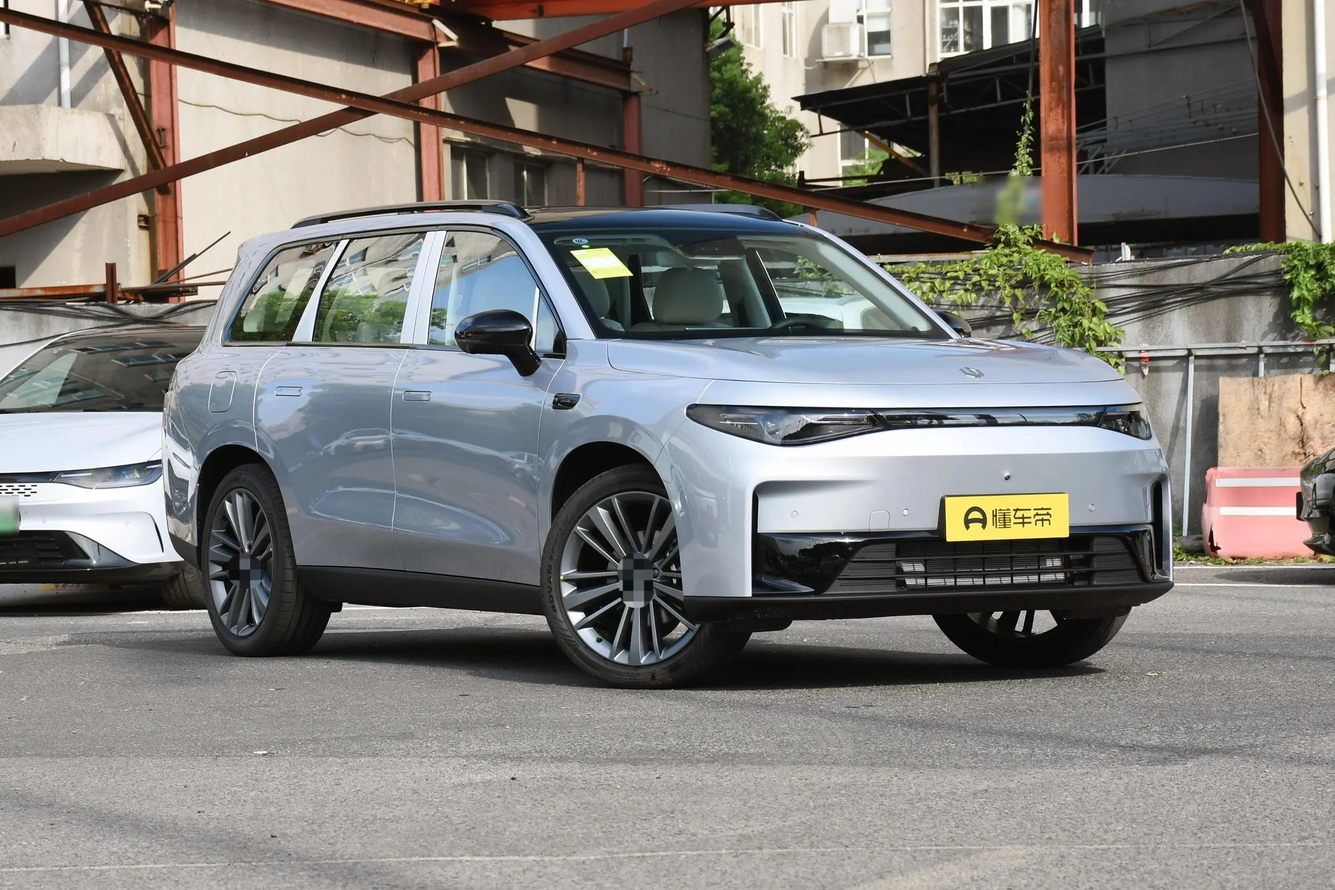LEAPMOTOR: (959, 365, 986, 380)
